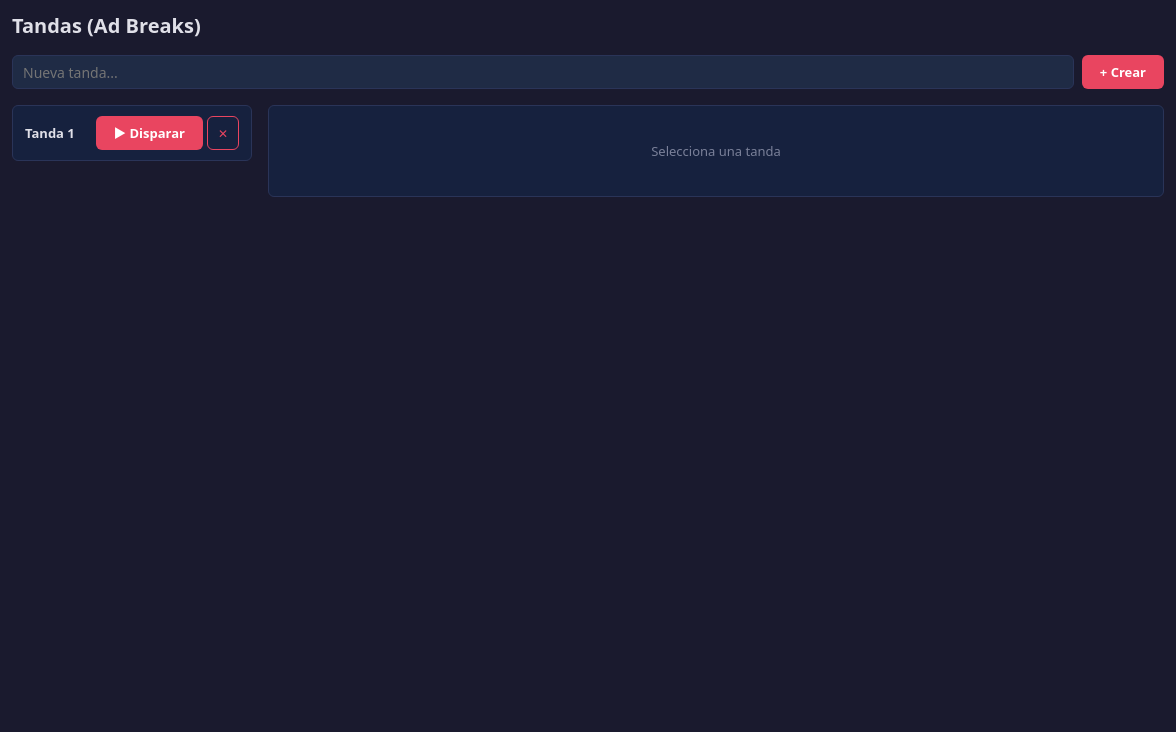
AdBreaksPage › muestra error si intenta crear regla de tiempo sin audios
This screenshot has width=1176, height=732.
Click the text "Tanda 1". click: {"x": 50, "y": 133}
box: [25,124,75,142]
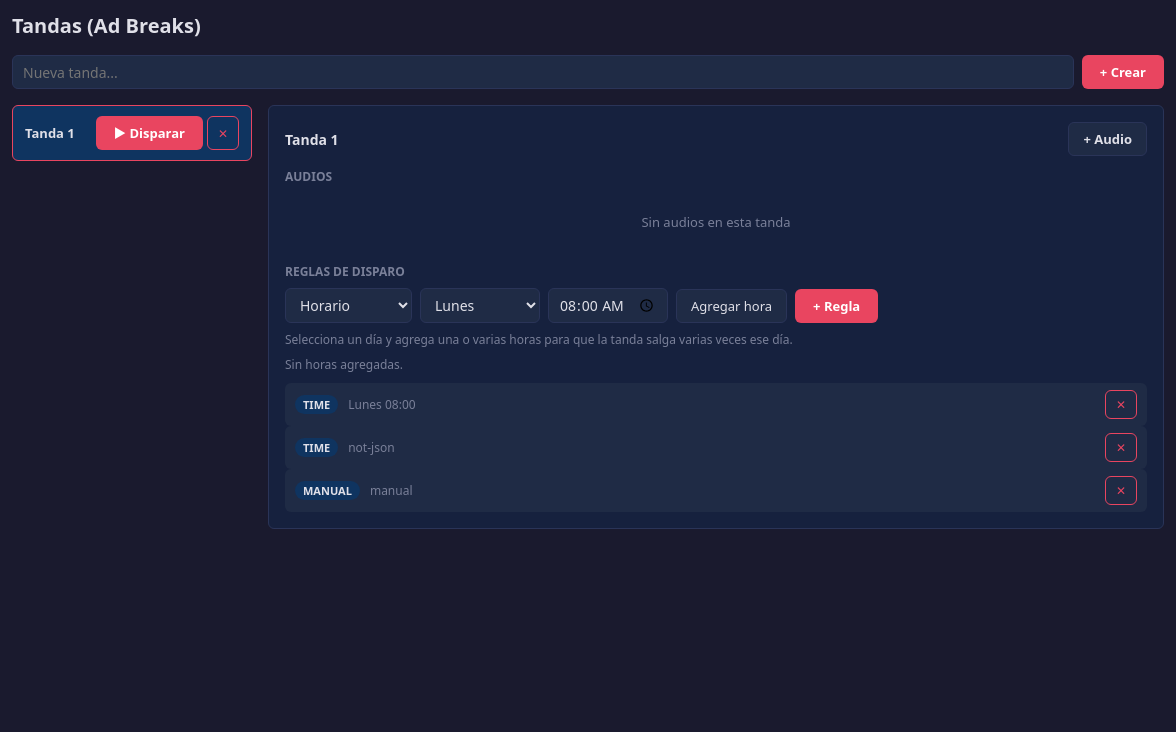
Expected: the button "+ Regla" is shown
Click the button "+ Regla". click: {"x": 837, "y": 306}
box: [795,289,878,323]
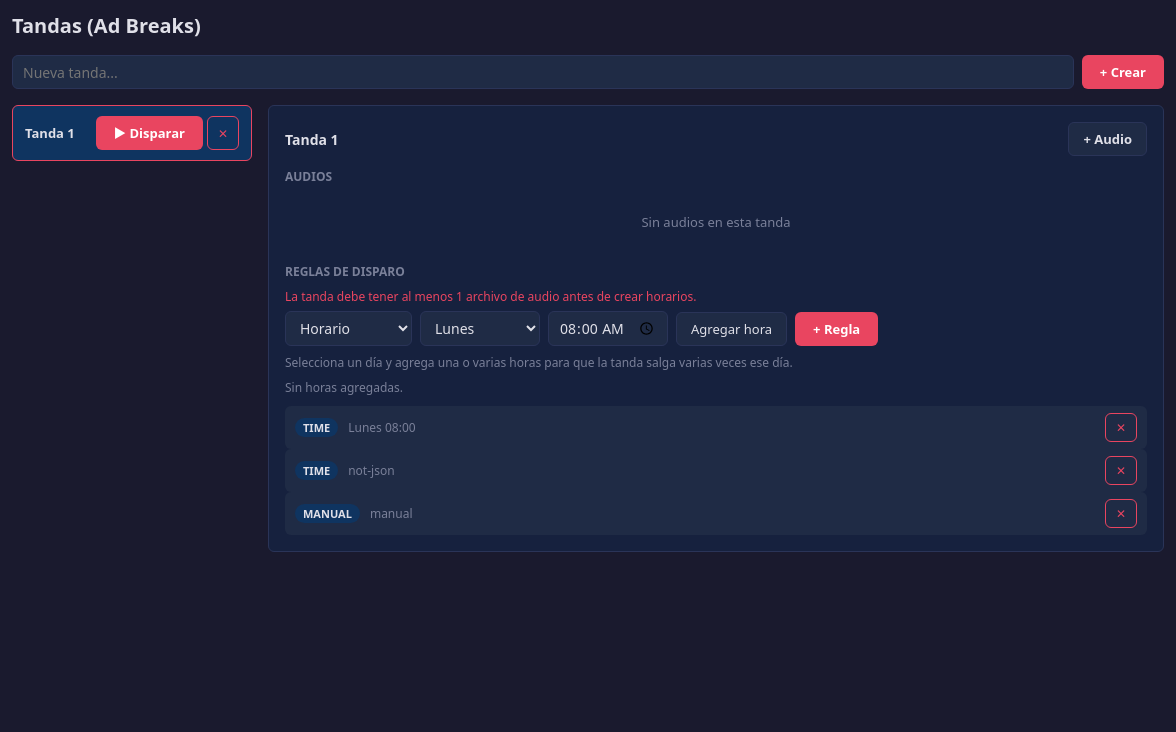
Expected: the text "La tanda debe tener al menos 1 archivo de audio antes de crear horarios." is shown, [285,288,696,305]
